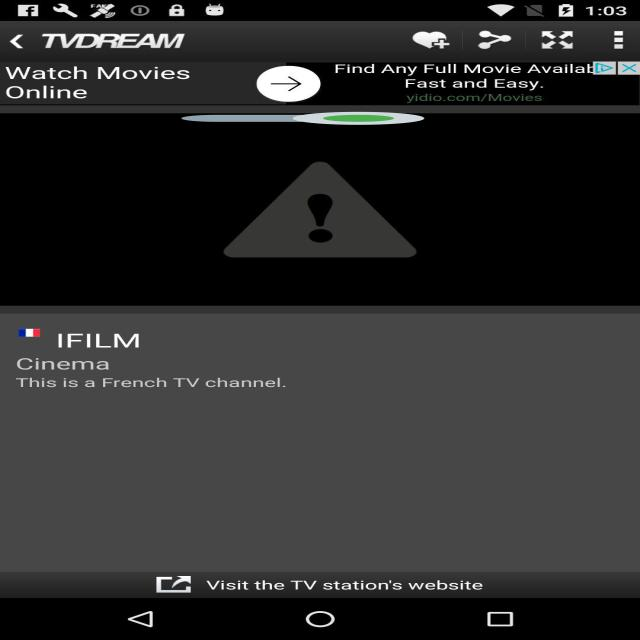social proof: (182, 106, 424, 130)
